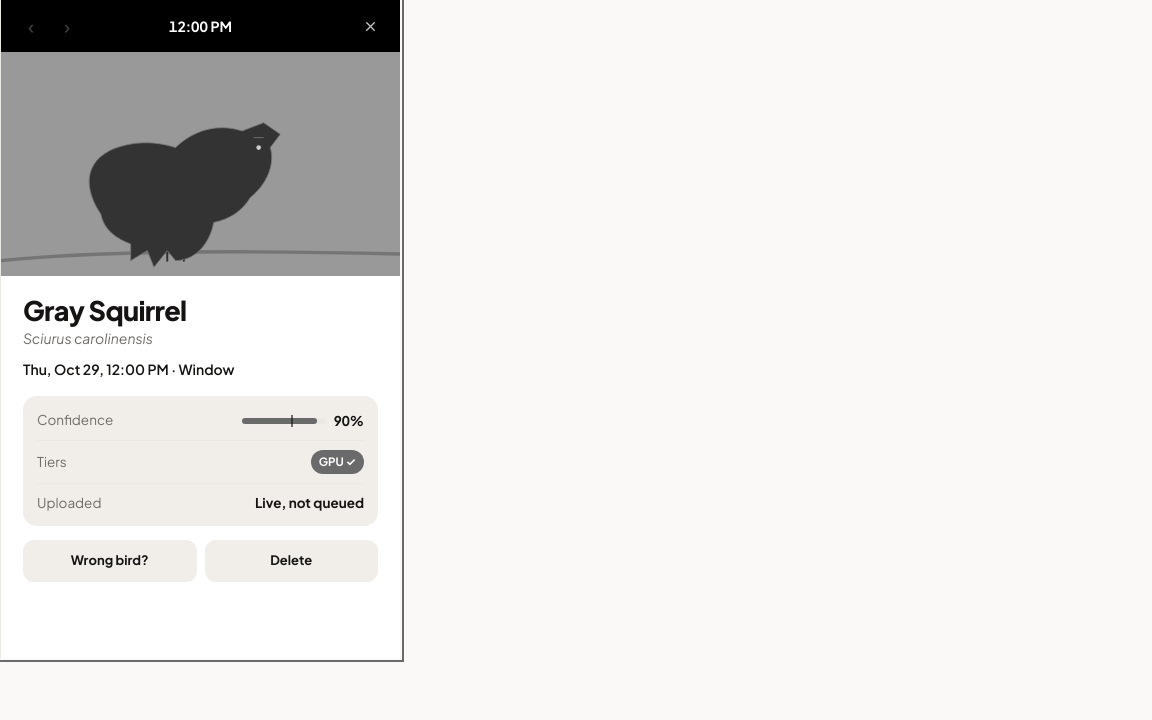
Test case: delete button › keeps the view open and says why when the delete fails
Click the button "Delete": (291, 561) left=204, top=540, right=378, bottom=582
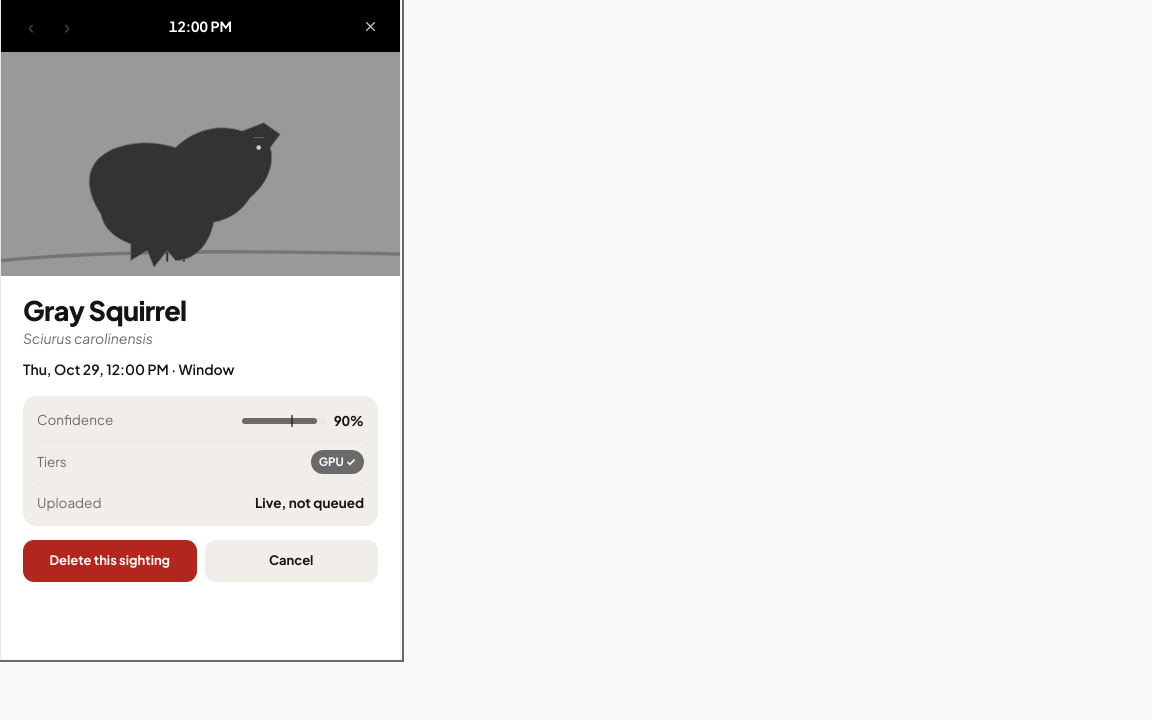
Click the button "Delete this sighting": (110, 561) left=23, top=540, right=196, bottom=582
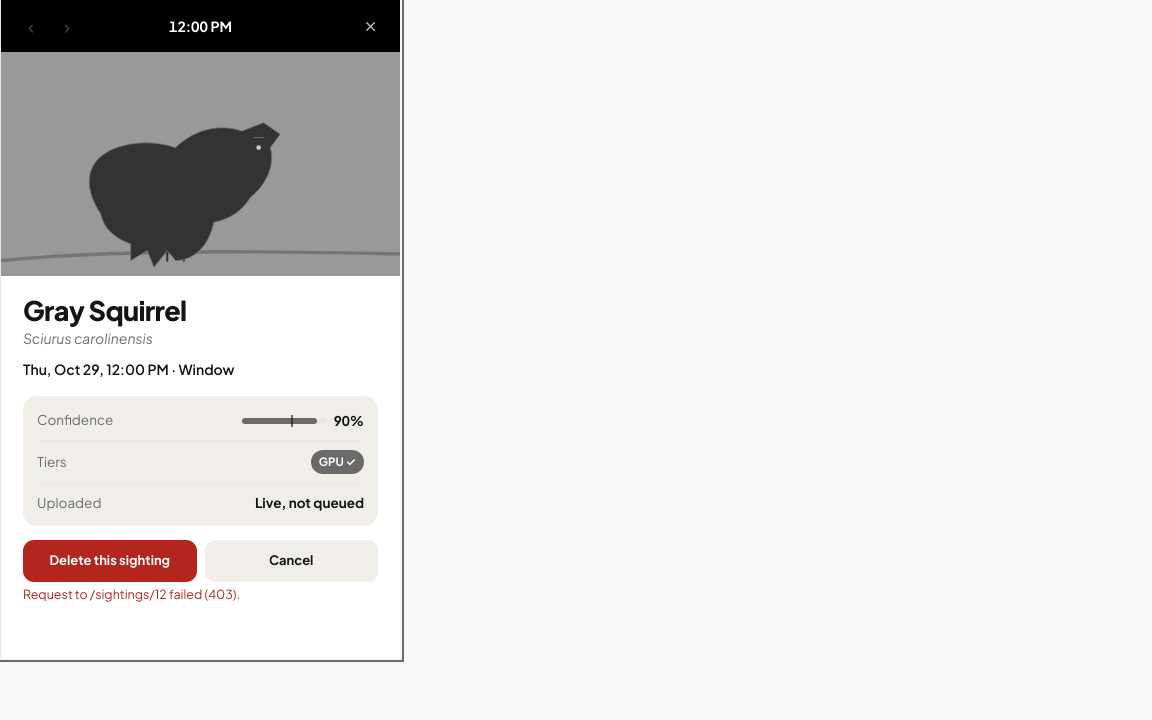
Expected: the message shows "403", left=23, top=586, right=240, bottom=602
